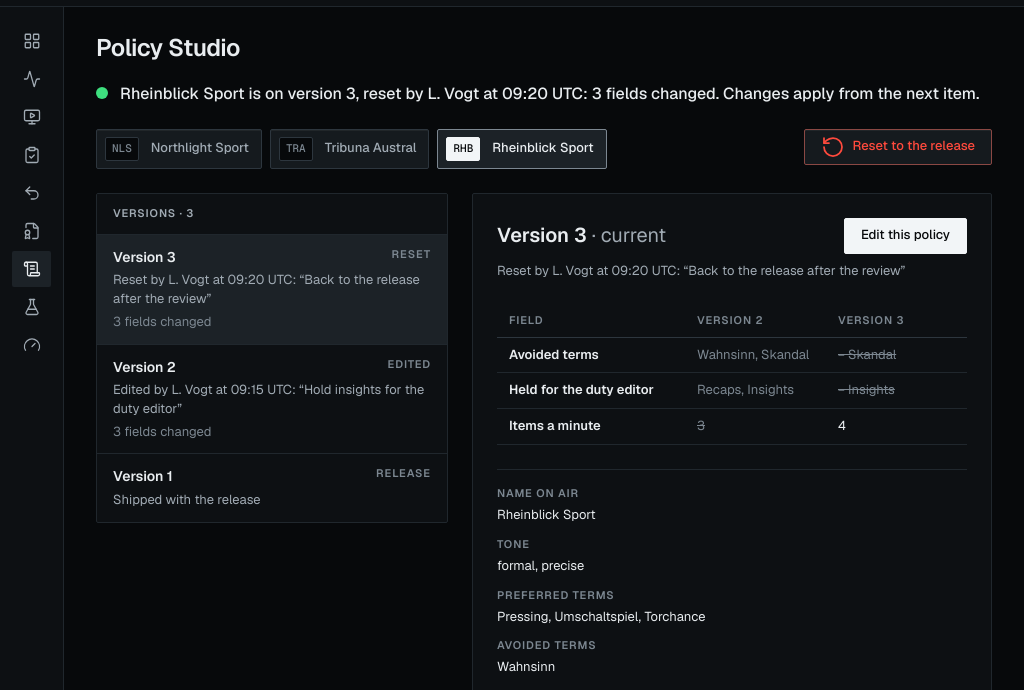
Test: PolicyStudio › leaves a cleared number blank and will not save it
expect the list named "Versions" is shown: met, box [97, 235, 447, 522]
Click the button "Edit this policy" at point(905, 236), box [844, 218, 967, 254]
(page scrolled)
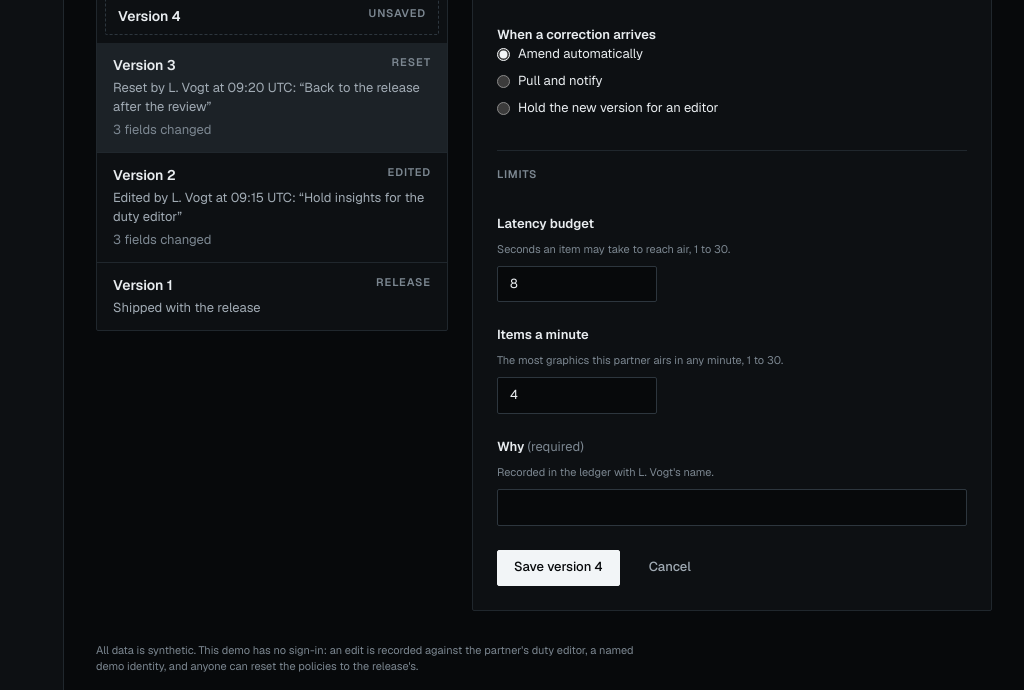
Clear the number field labelled "Items a minute" at point(577, 396), box [497, 377, 657, 414]
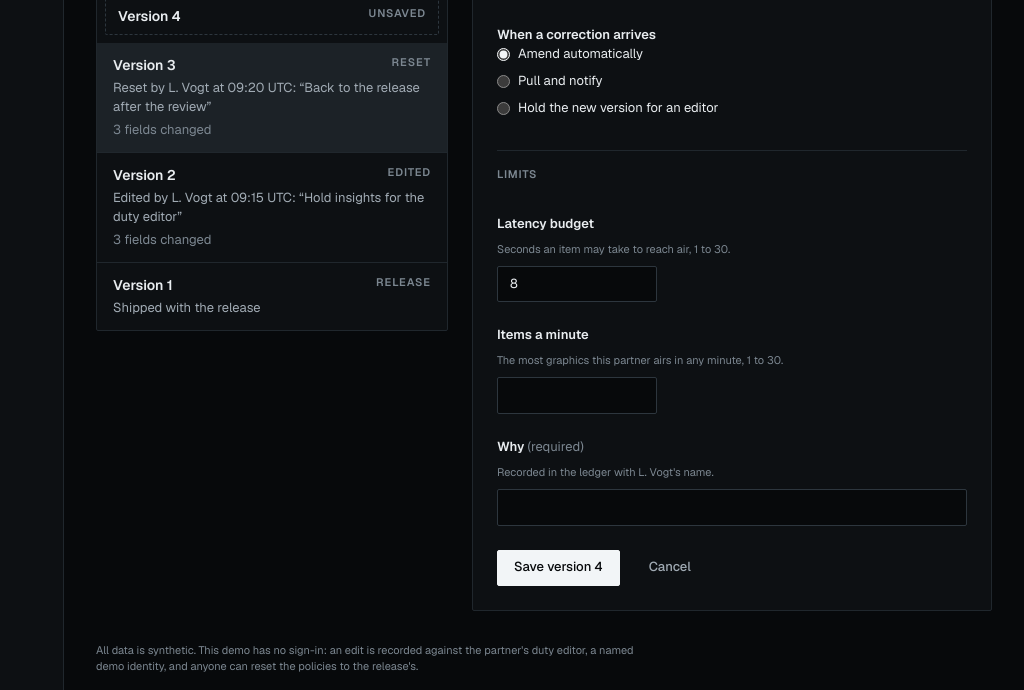
Type "Try" into the field labelled "Why (required)" at point(732, 507), box [497, 489, 967, 526]
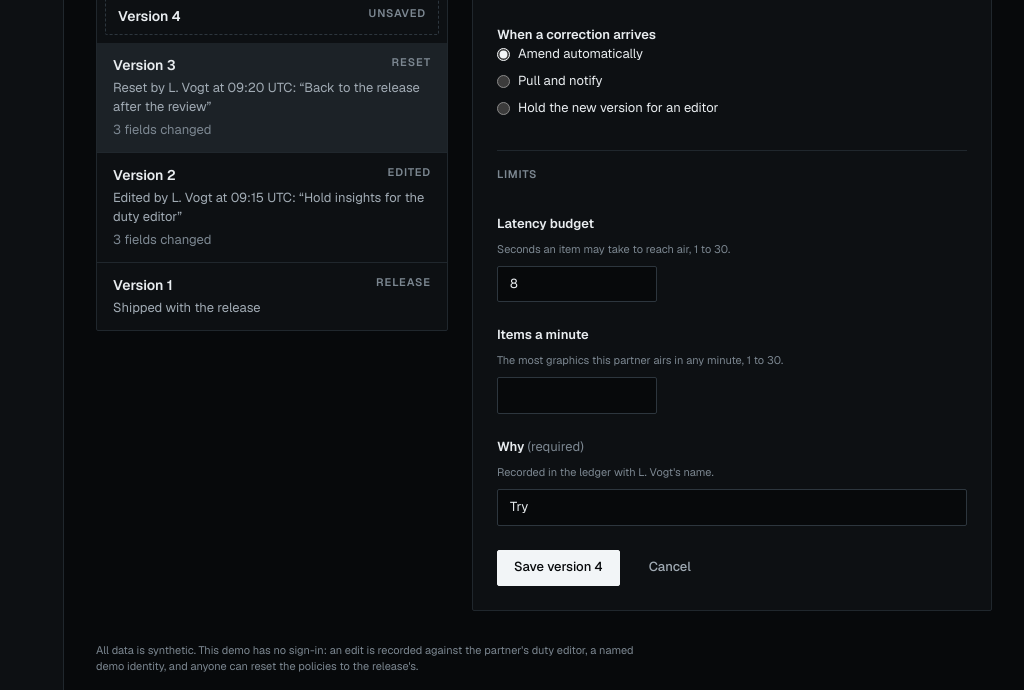
Click the button "Save version 4" at point(558, 568), box [497, 550, 620, 586]
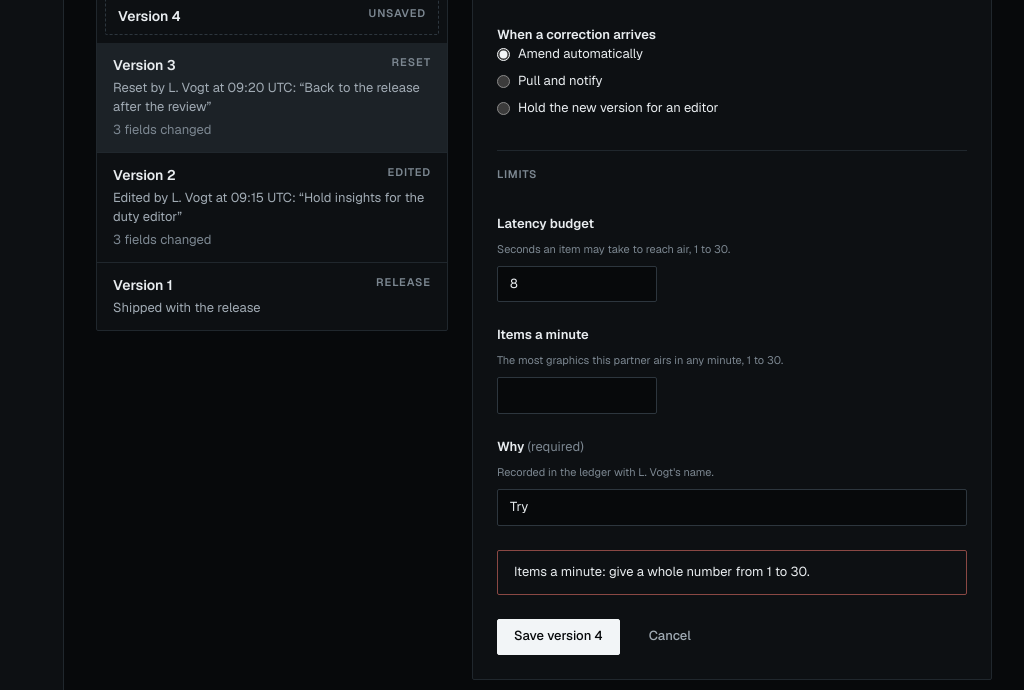
expect the message shows "Items a minute": met, box [514, 563, 810, 580]
